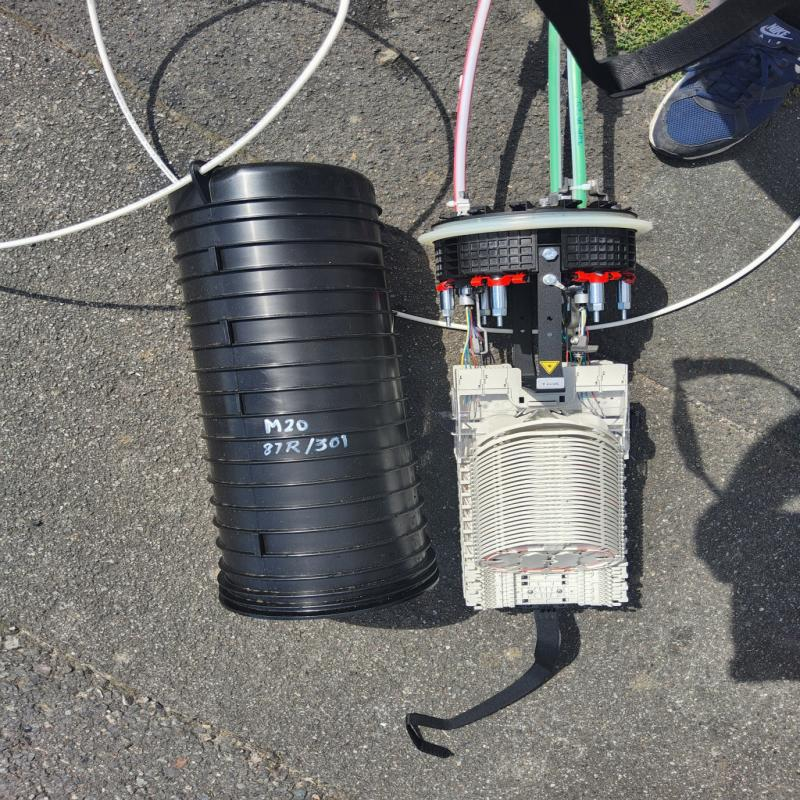NT-Muffen: (161, 158, 459, 628), (422, 194, 653, 616)
